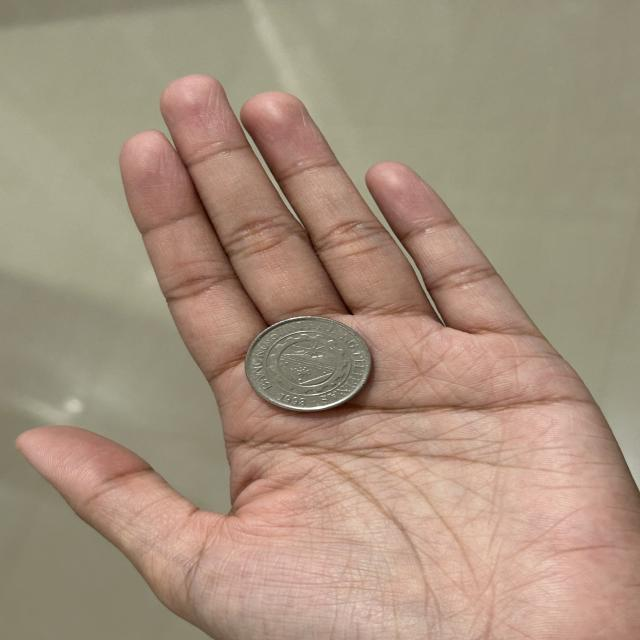1_Old_Back: (247, 316, 371, 408)
